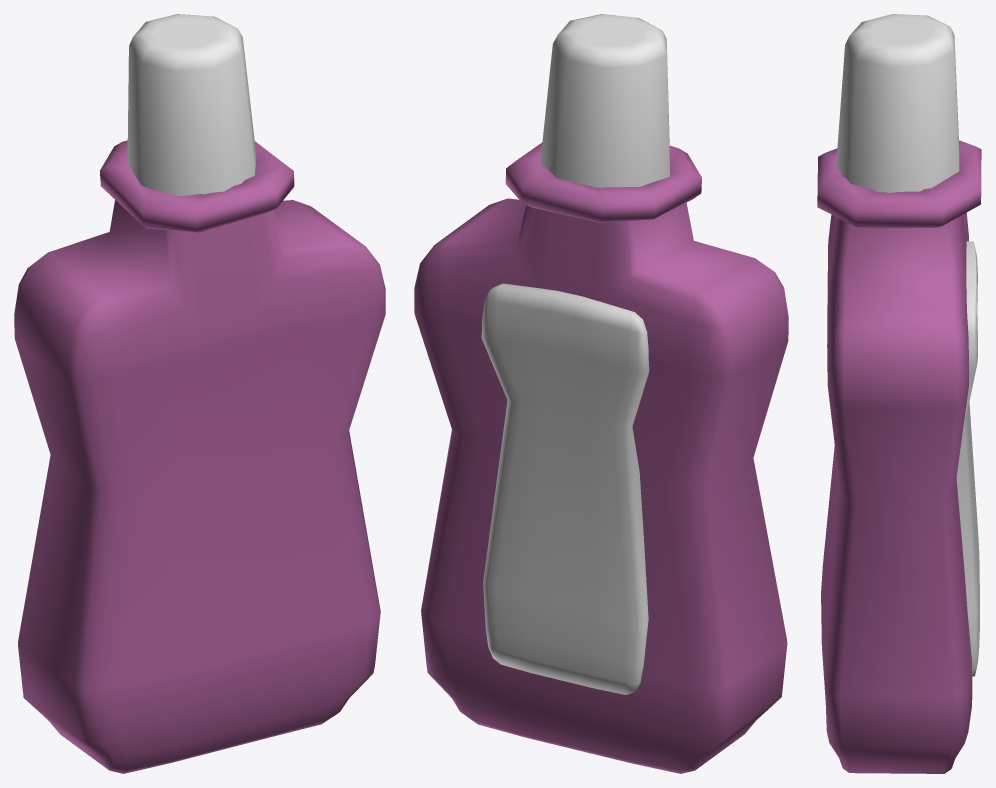
File: props_hygieneProduct.fbx
3 renders of one model, left to right at view 1: azimuth 30°, elevation 25°; view 2: azimuth 150°, elevation 25°; view 3: azimuth 270°, elevation 25°, orthographic. The views are drawn at different scales.
Visible parts, largest first — view 1: Hygieneproduct; view 2: Hygieneproduct; view 3: Hygieneproduct.
Boxes of the visible parts, x1,y1,x2,y2 form: Hygieneproduct: (14,14,385,773); Hygieneproduct: (414,14,788,773); Hygieneproduct: (817,14,981,773).
Size of the model in its own units: 0.4198 by 0.191 by 0.8856.
